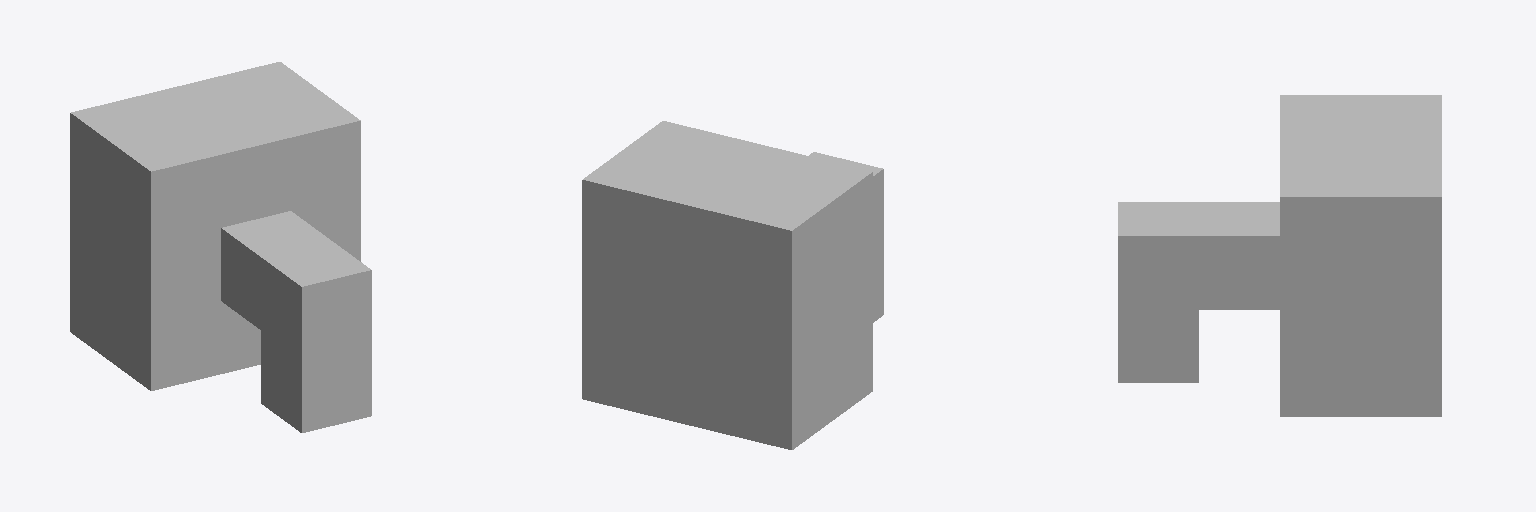
File: redMushroomsWall2-0.obj
The picture shows the model from 3 angles: view 1: azimuth 30°, elevation 25°; view 2: azimuth 150°, elevation 25°; view 3: azimuth 270°, elevation 25°; orthographic projection.
Parts seen in each view (by area): view 1: object 1; view 2: object 1; view 3: object 1.
Boxes of the visible parts, box(x1,y1,x2,y2) form: object 1: box(70, 62, 371, 432); object 1: box(582, 121, 883, 449); object 1: box(1118, 95, 1441, 416).
Bounding box in the file's own units: 0.3 × 0.3 × 0.4.